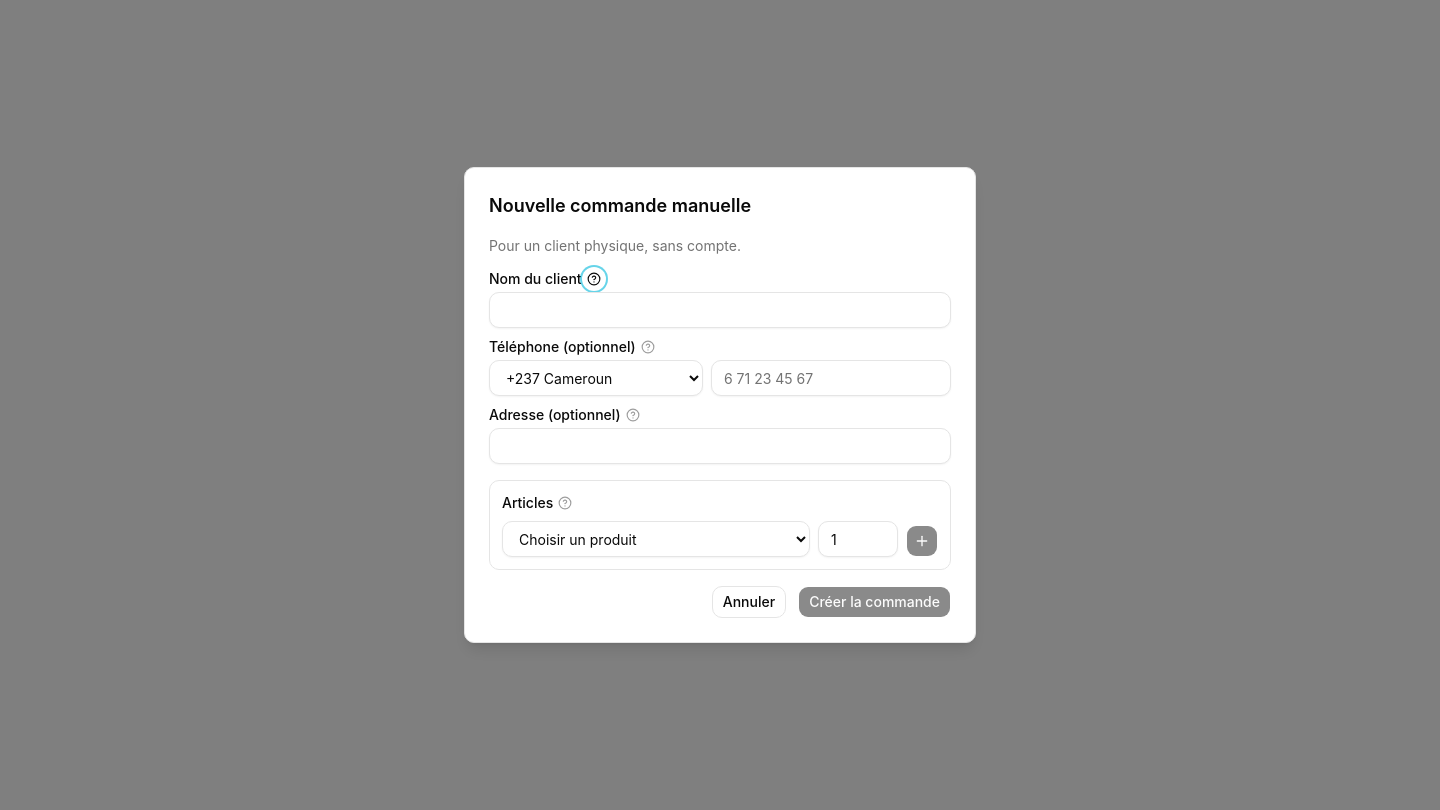
ManualOrderDialog › keeps the submit button disabled until a client name and at least one item are set
Check: the button "Créer la commande" is disabled, box x1=798 y1=586 x2=951 y2=618
Type "Client de passage" into the field labelled "Nom du client".
click(720, 310); type("Client de passage")  # box x1=489 y1=292 x2=951 y2=328
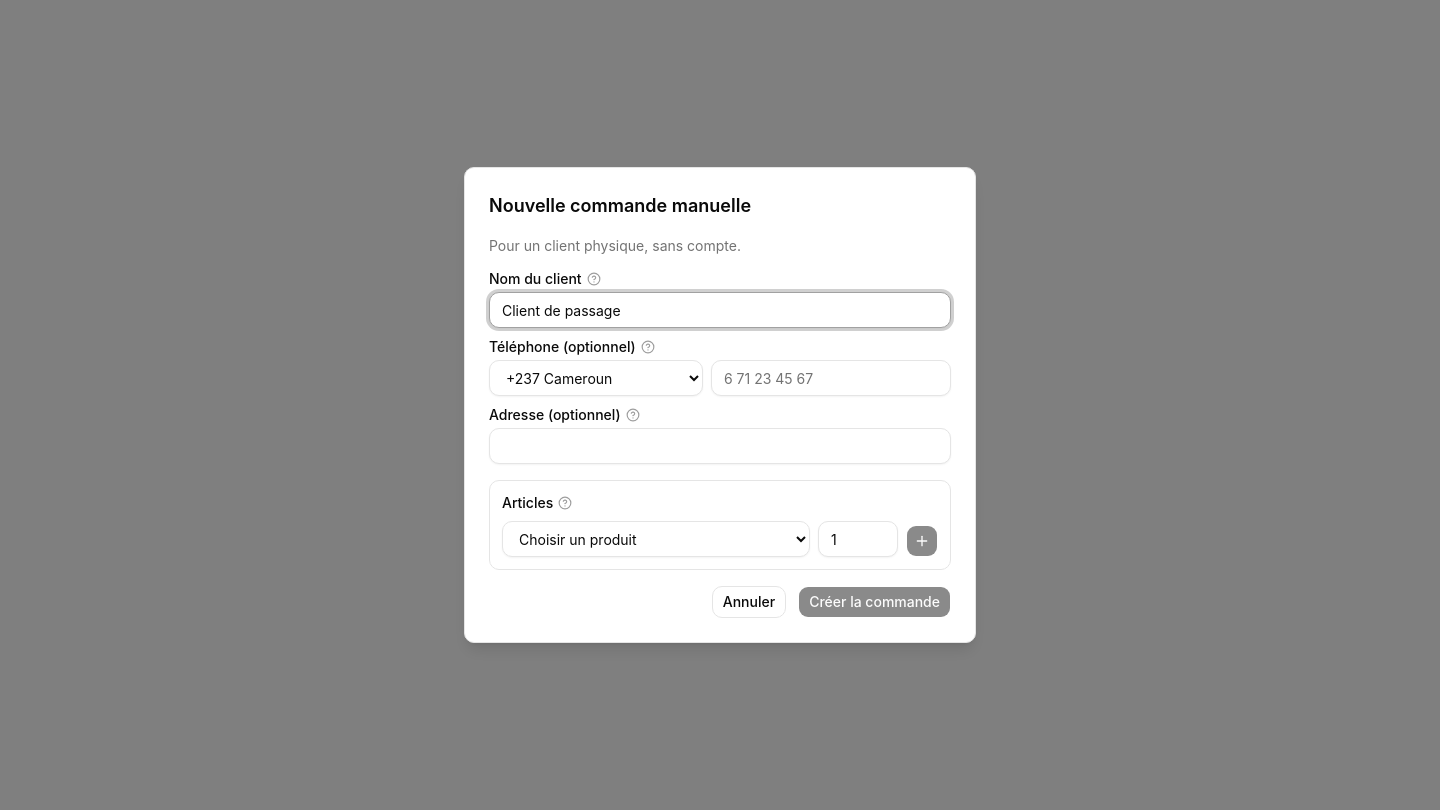
Check: the button "Créer la commande" is disabled, box x1=798 y1=586 x2=951 y2=618
Select "Wax — 5 000 FCFA" in the dropdown named "Produit" at (656, 539), box x1=502 y1=521 x2=810 y2=557
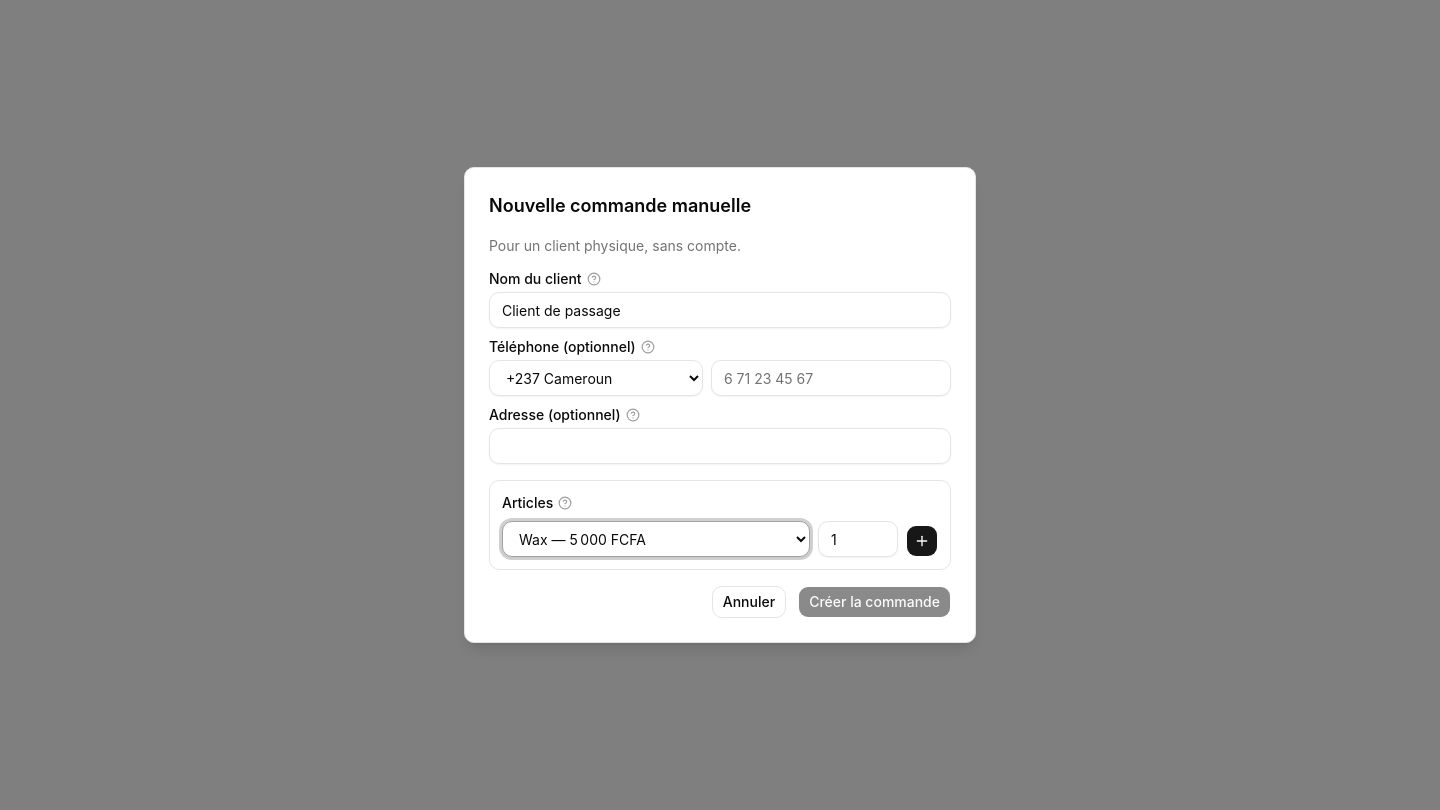
Click the button named "Ajouter l'article".
click(922, 541)  # box x1=906 y1=525 x2=938 y2=557
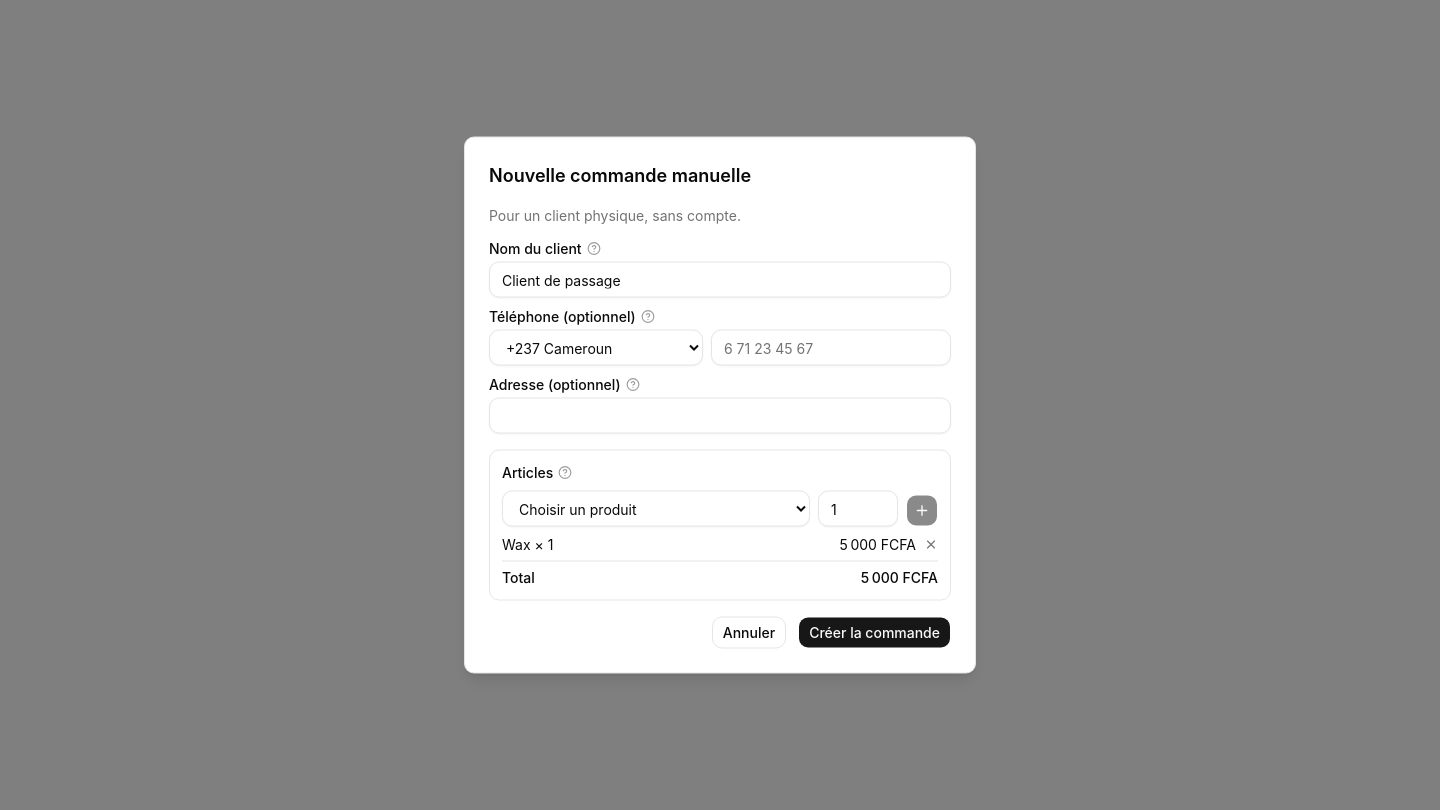
Check: the button "Créer la commande" is enabled, box x1=798 y1=616 x2=951 y2=648
